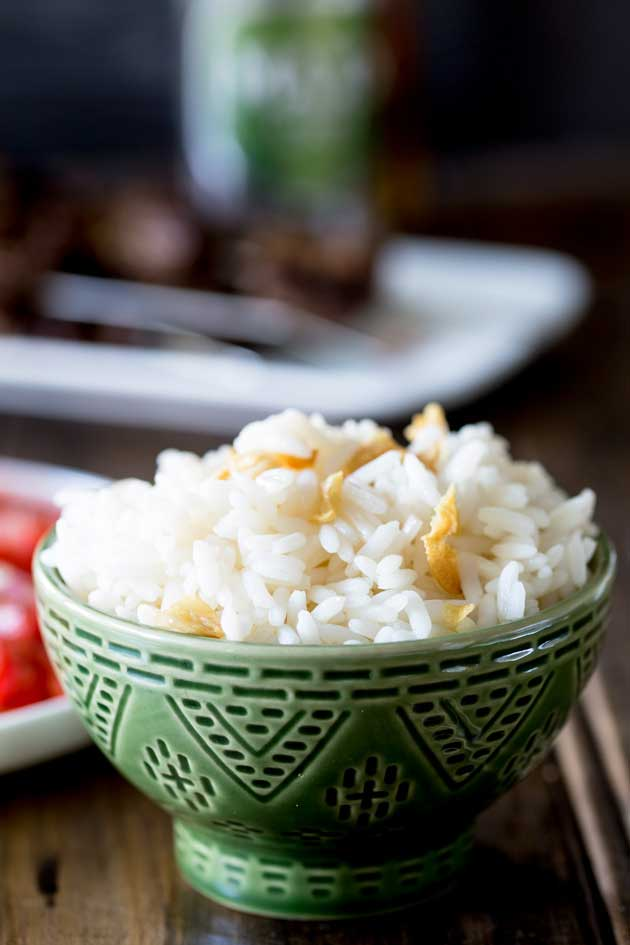plain rice: (79, 412, 578, 644)
